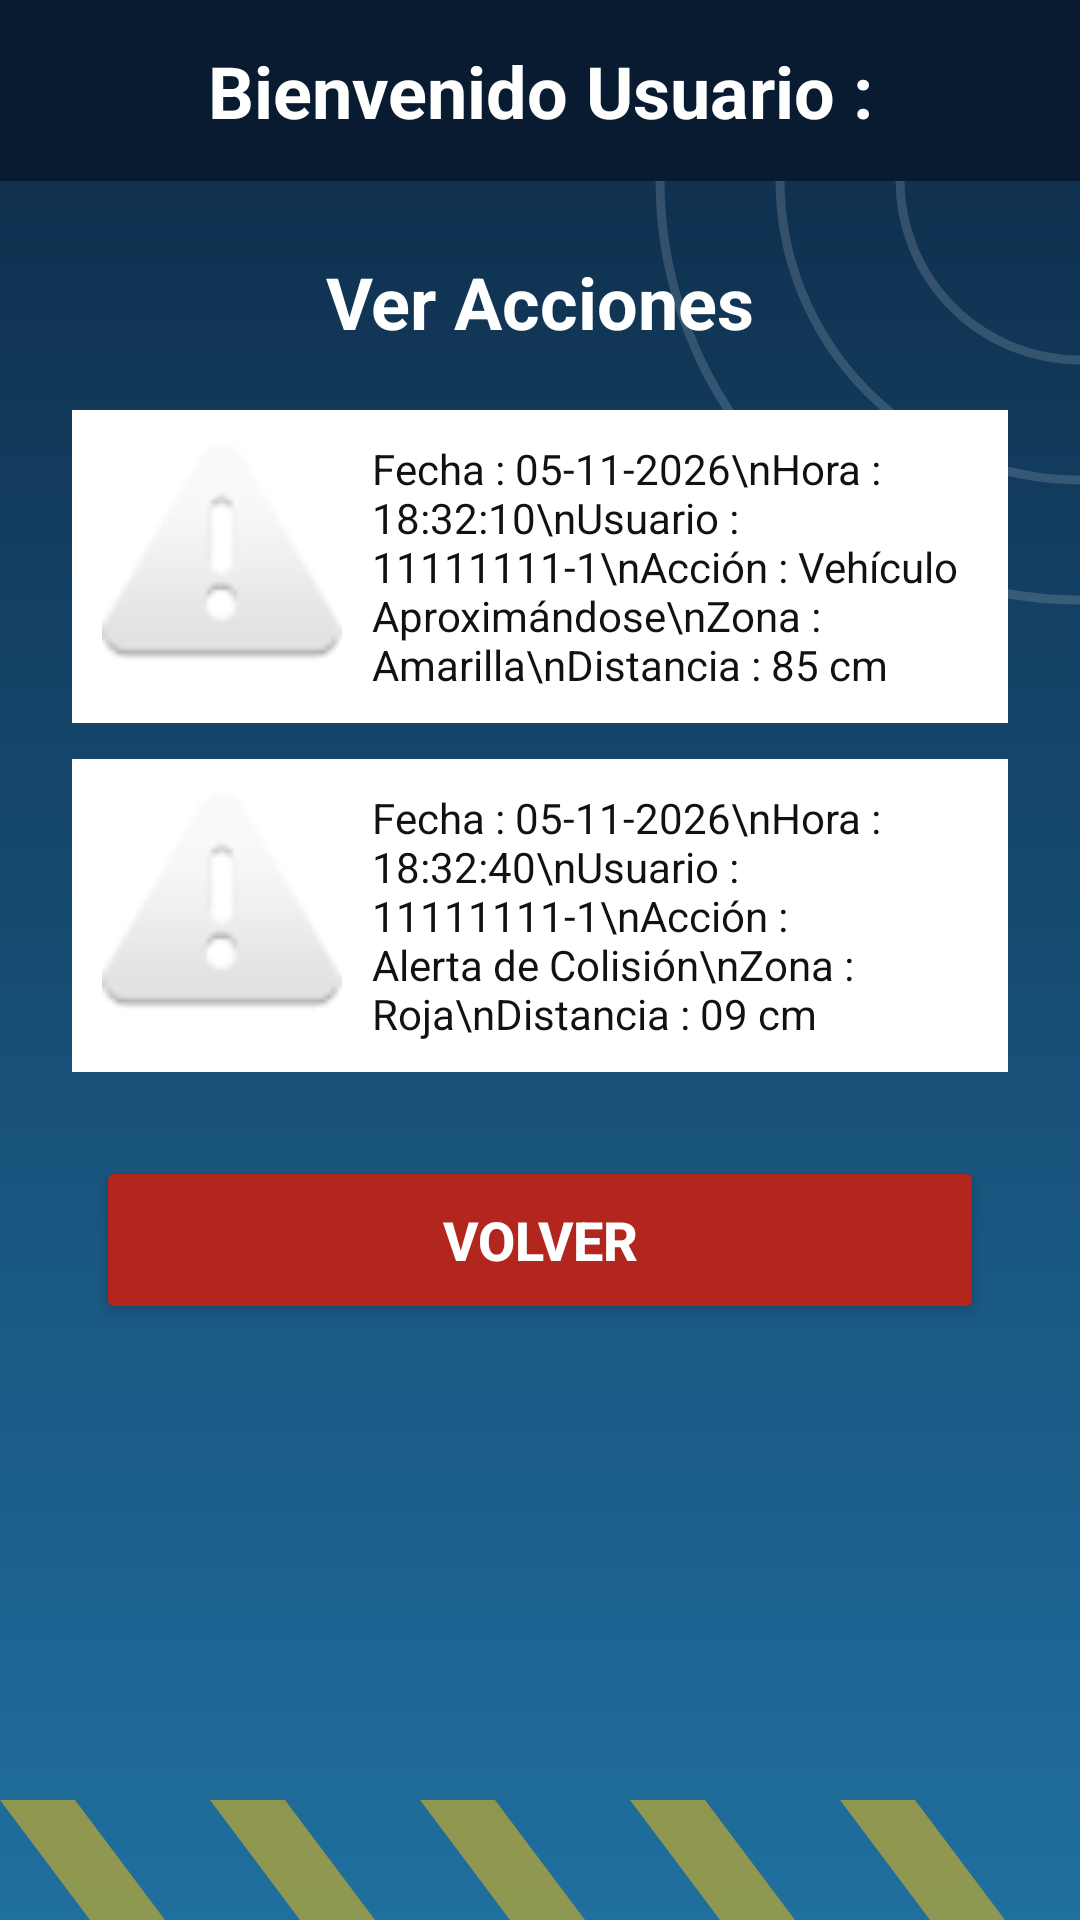

Icon bounding boxes for this 1080px×1920px phone screenshot, format {"x1": x1, "y1": y1, "x2": x2, "y2": y2}:
Imagen de la acción: {"x1": 102, "y1": 496, "x2": 342, "y2": 658}, {"x1": 102, "y1": 845, "x2": 342, "y2": 1007}
